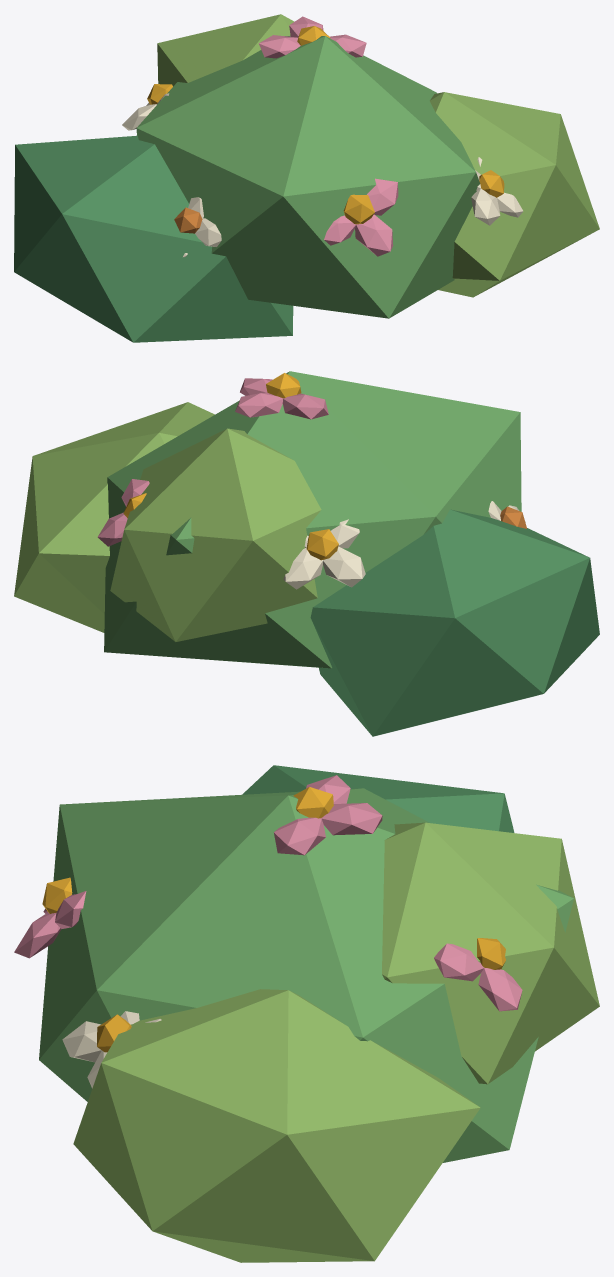
The model's file is Cozy_Bush_03_FloweringBush.fbx.
3 renders of one model, top to bottom at view 1: azimuth 30°, elevation 25°; view 2: azimuth 150°, elevation 25°; view 3: azimuth 270°, elevation 25°, orthographic. The views are drawn at different scales.
Parts seen in each view (by area): view 1: Cozy_Bush_03_FloweringBush; view 2: Cozy_Bush_03_FloweringBush; view 3: Cozy_Bush_03_FloweringBush.
Part boxes in pixels (x1,y1,x2,y2): Cozy_Bush_03_FloweringBush: (14,14,599,342); Cozy_Bush_03_FloweringBush: (14,371,599,736); Cozy_Bush_03_FloweringBush: (14,765,599,1262).
Bounding box in the file's own units: 1.57 × 0.844 × 1.16.
